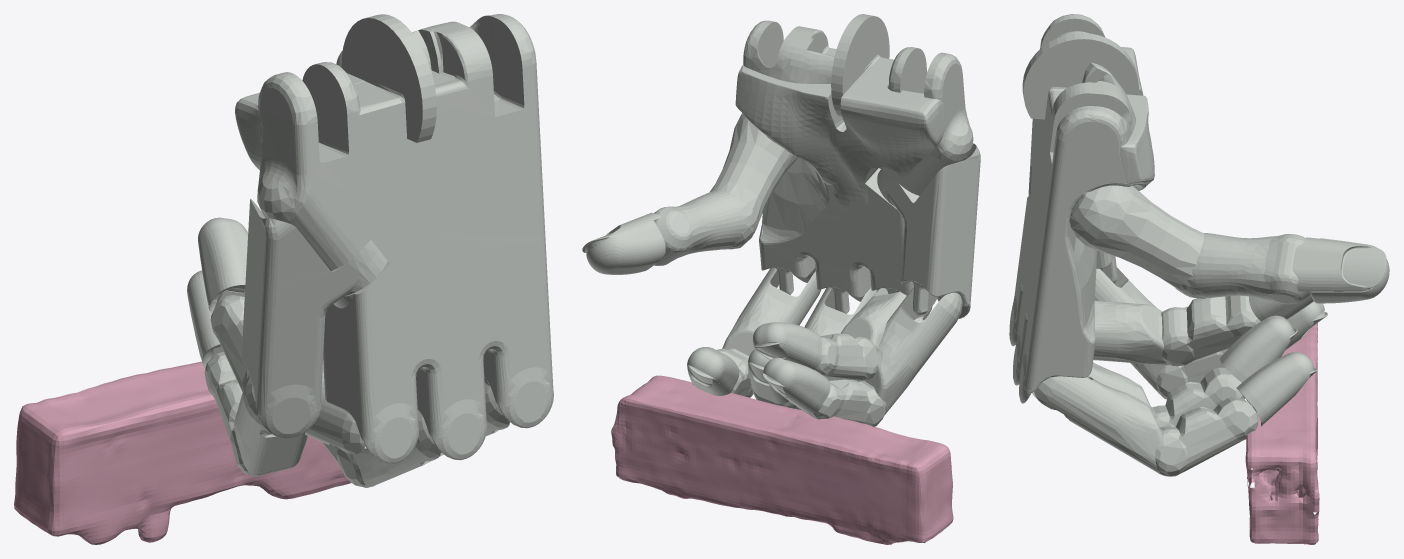
The picture shows the model from 3 angles, left to right: view 1: azimuth 30°, elevation 25°; view 2: azimuth 150°, elevation 25°; view 3: azimuth 270°, elevation 25°; orthographic projection. The views are drawn at different scales.
Parts seen in each view (by area): view 1: hand, world; view 2: hand, world; view 3: hand, world.
Part boxes in pixels (x1=…): hand: x1=187, y1=14, x2=553, y2=487; world: x1=14, y1=361, x2=350, y2=544; hand: x1=582, y1=14, x2=980, y2=426; world: x1=611, y1=375, x2=953, y2=544; hand: x1=1009, y1=14, x2=1389, y2=476; world: x1=1245, y1=323, x2=1319, y2=544.
Size of the model in its own units: 0.1308 by 0.1699 by 0.1278.
